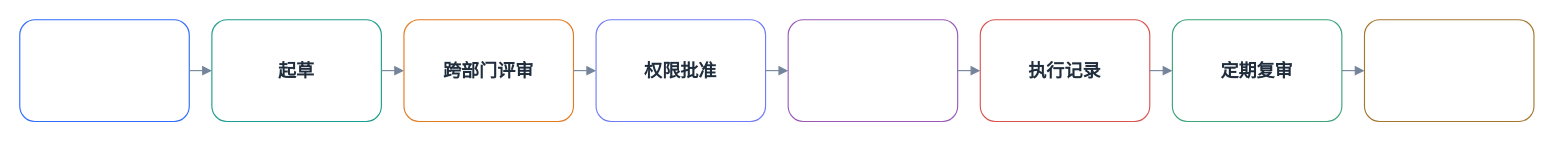
This 1554x141 diagram has some shape labels left out. Each missing label, with the centre of its shape:
"修订/作废/归档" belongs at (x=1448, y=70).
"发布培训" belongs at (x=872, y=70).
"需求提出" belongs at (x=104, y=70).
